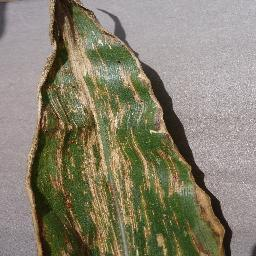Gray_Leaf_Spot: (22, 17, 233, 256)
